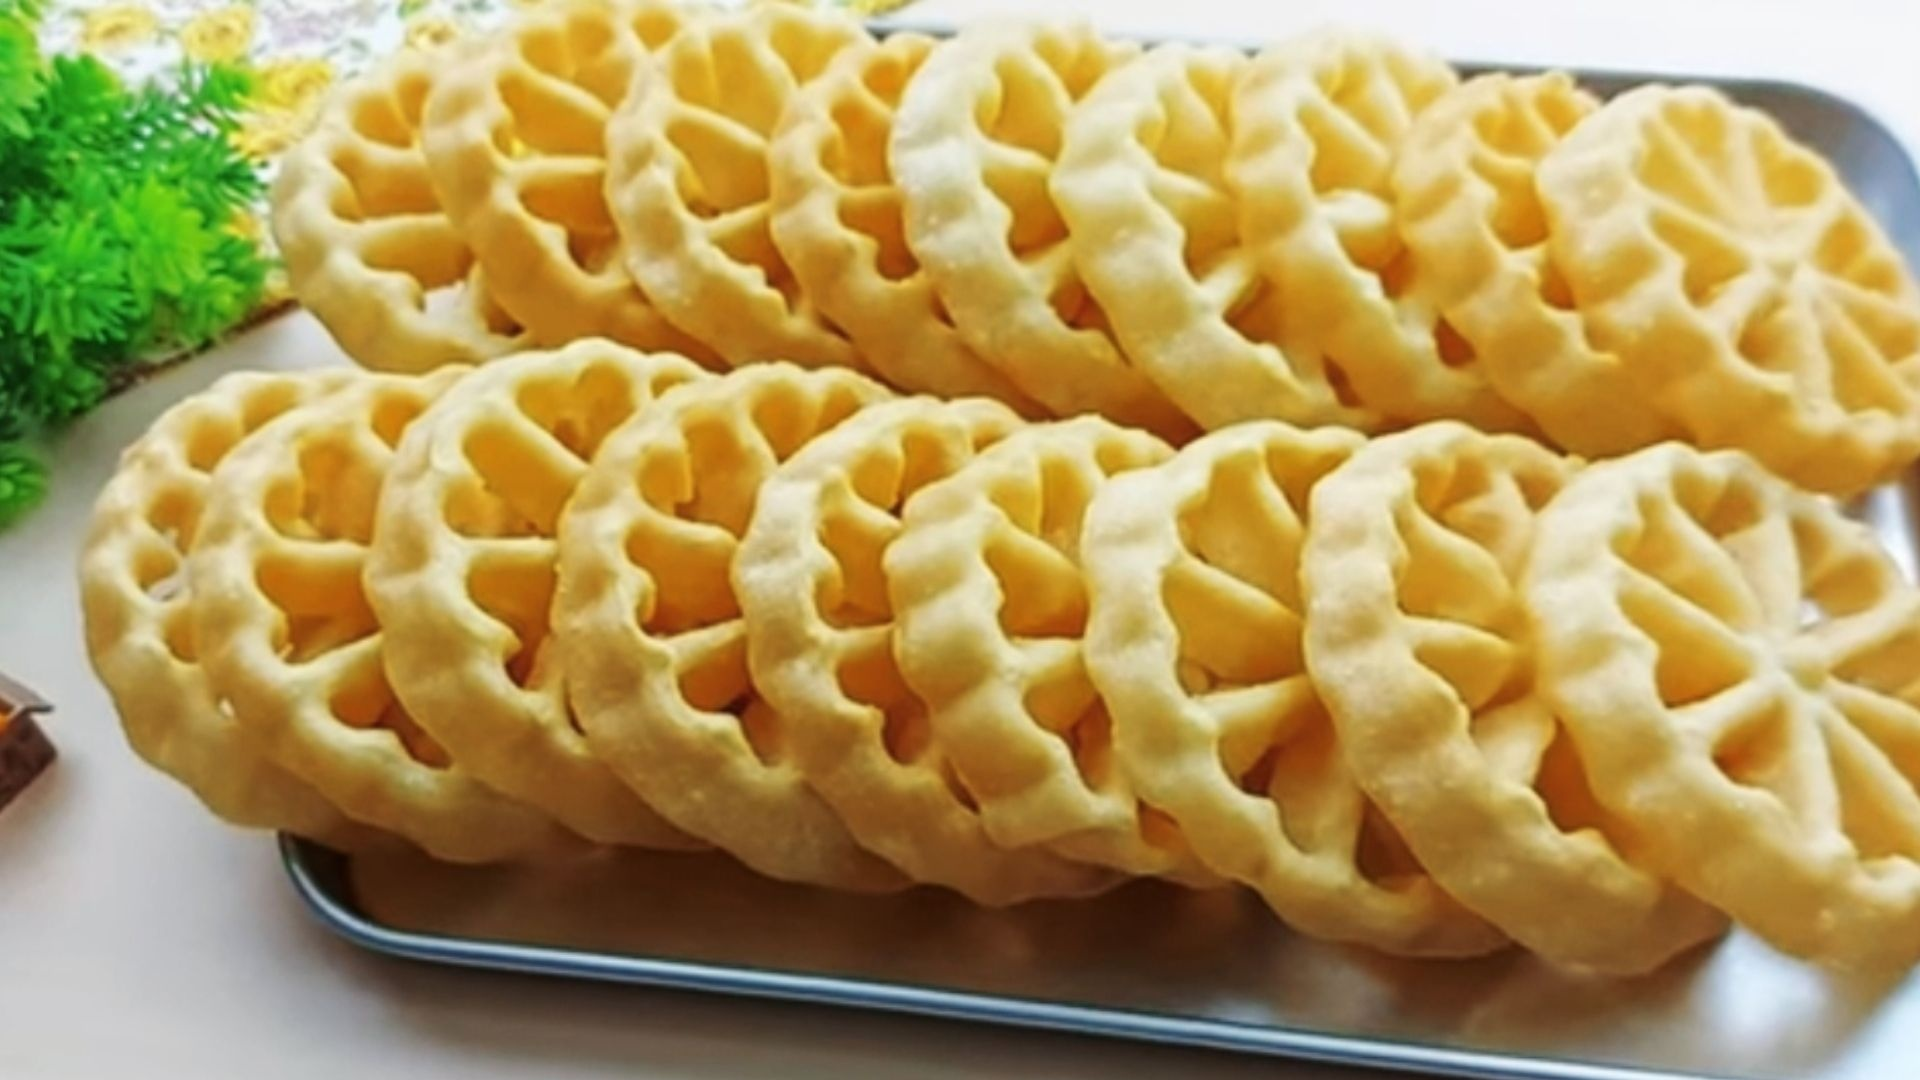kembang_goyang: (1526, 355, 1920, 955)
